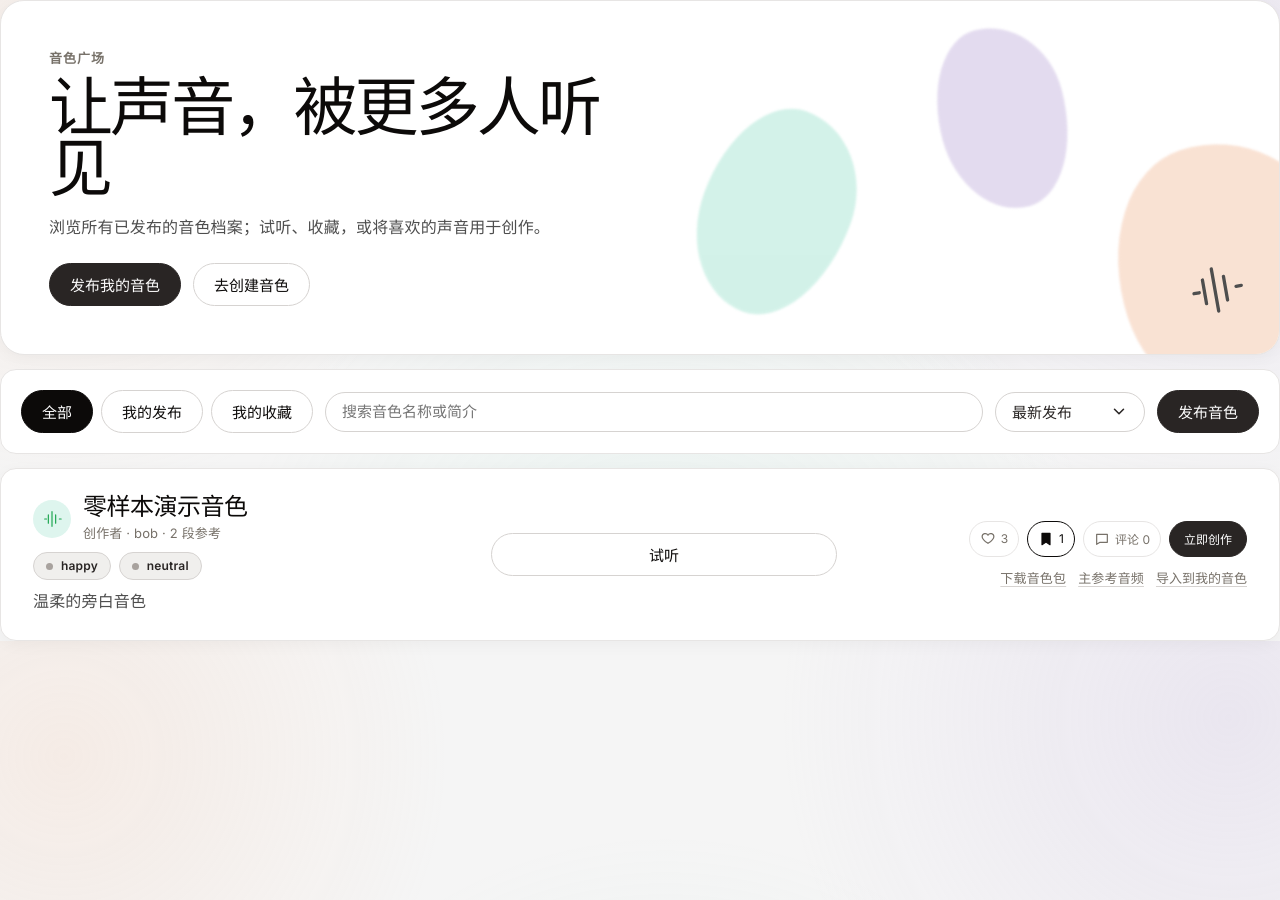
Test: removes a voice from my favorites after its cancellation succeeds
Click the tab "我的收藏" at [262, 412], box [211,390,313,433]
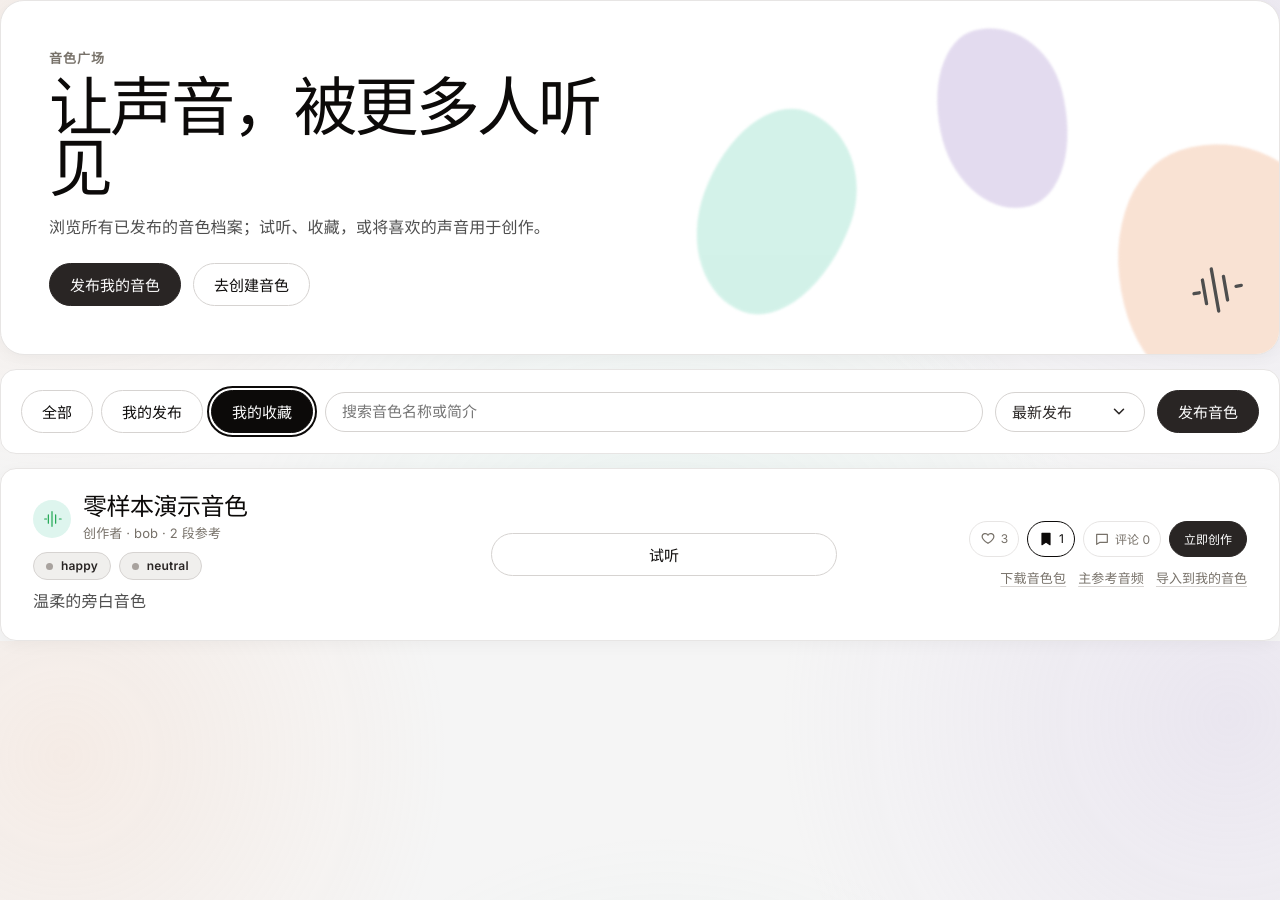
Click the button named "取消收藏" at [1051, 539], box [1027,521,1075,557]
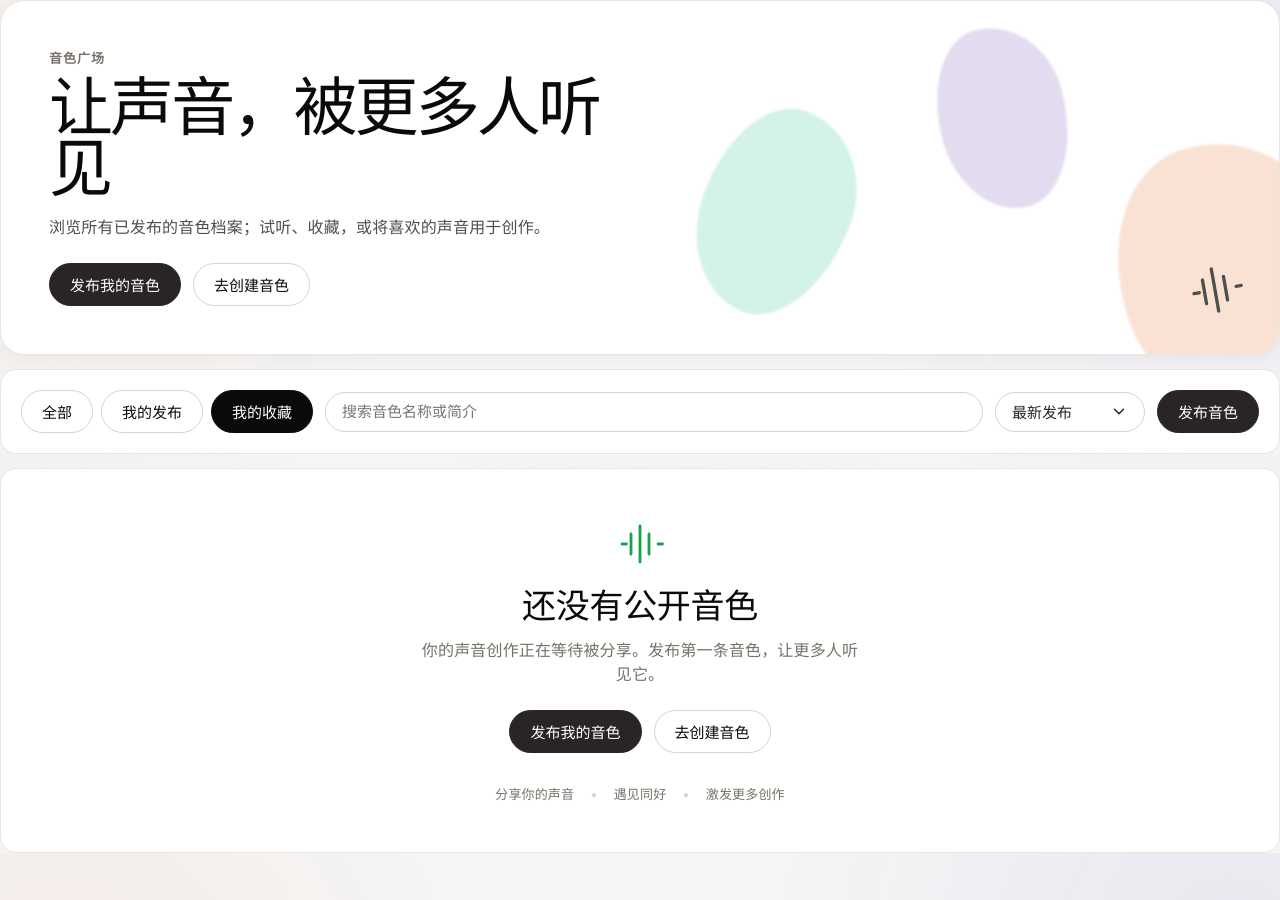
Expected: the heading "零样本演示音色" is gone
